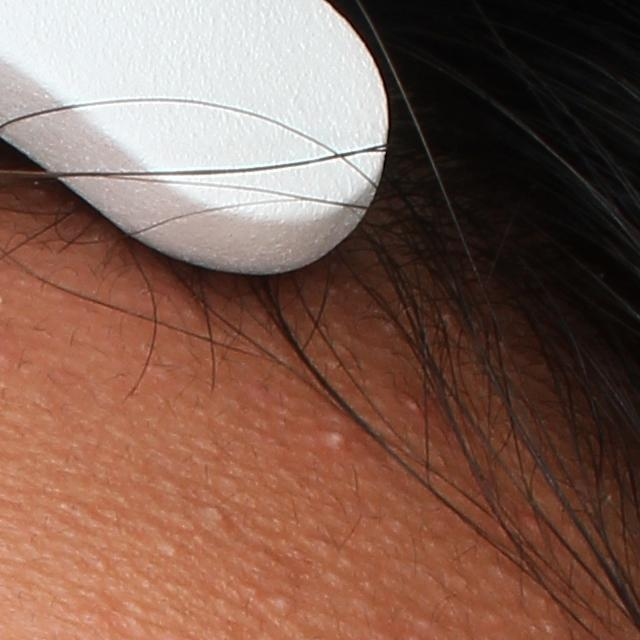comedo: (196, 501, 232, 536), (322, 430, 354, 446), (271, 593, 293, 615), (163, 540, 182, 557)
